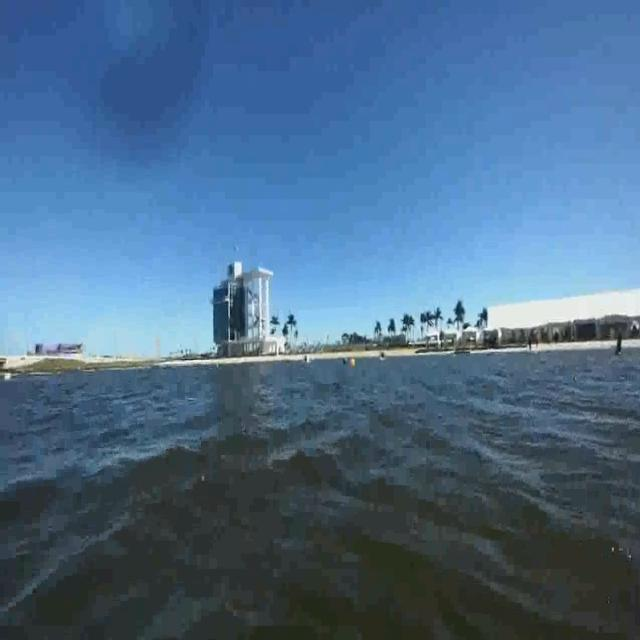green-column-buoy: (616, 332, 622, 356)
yellow-buoy: (350, 357, 357, 369)
